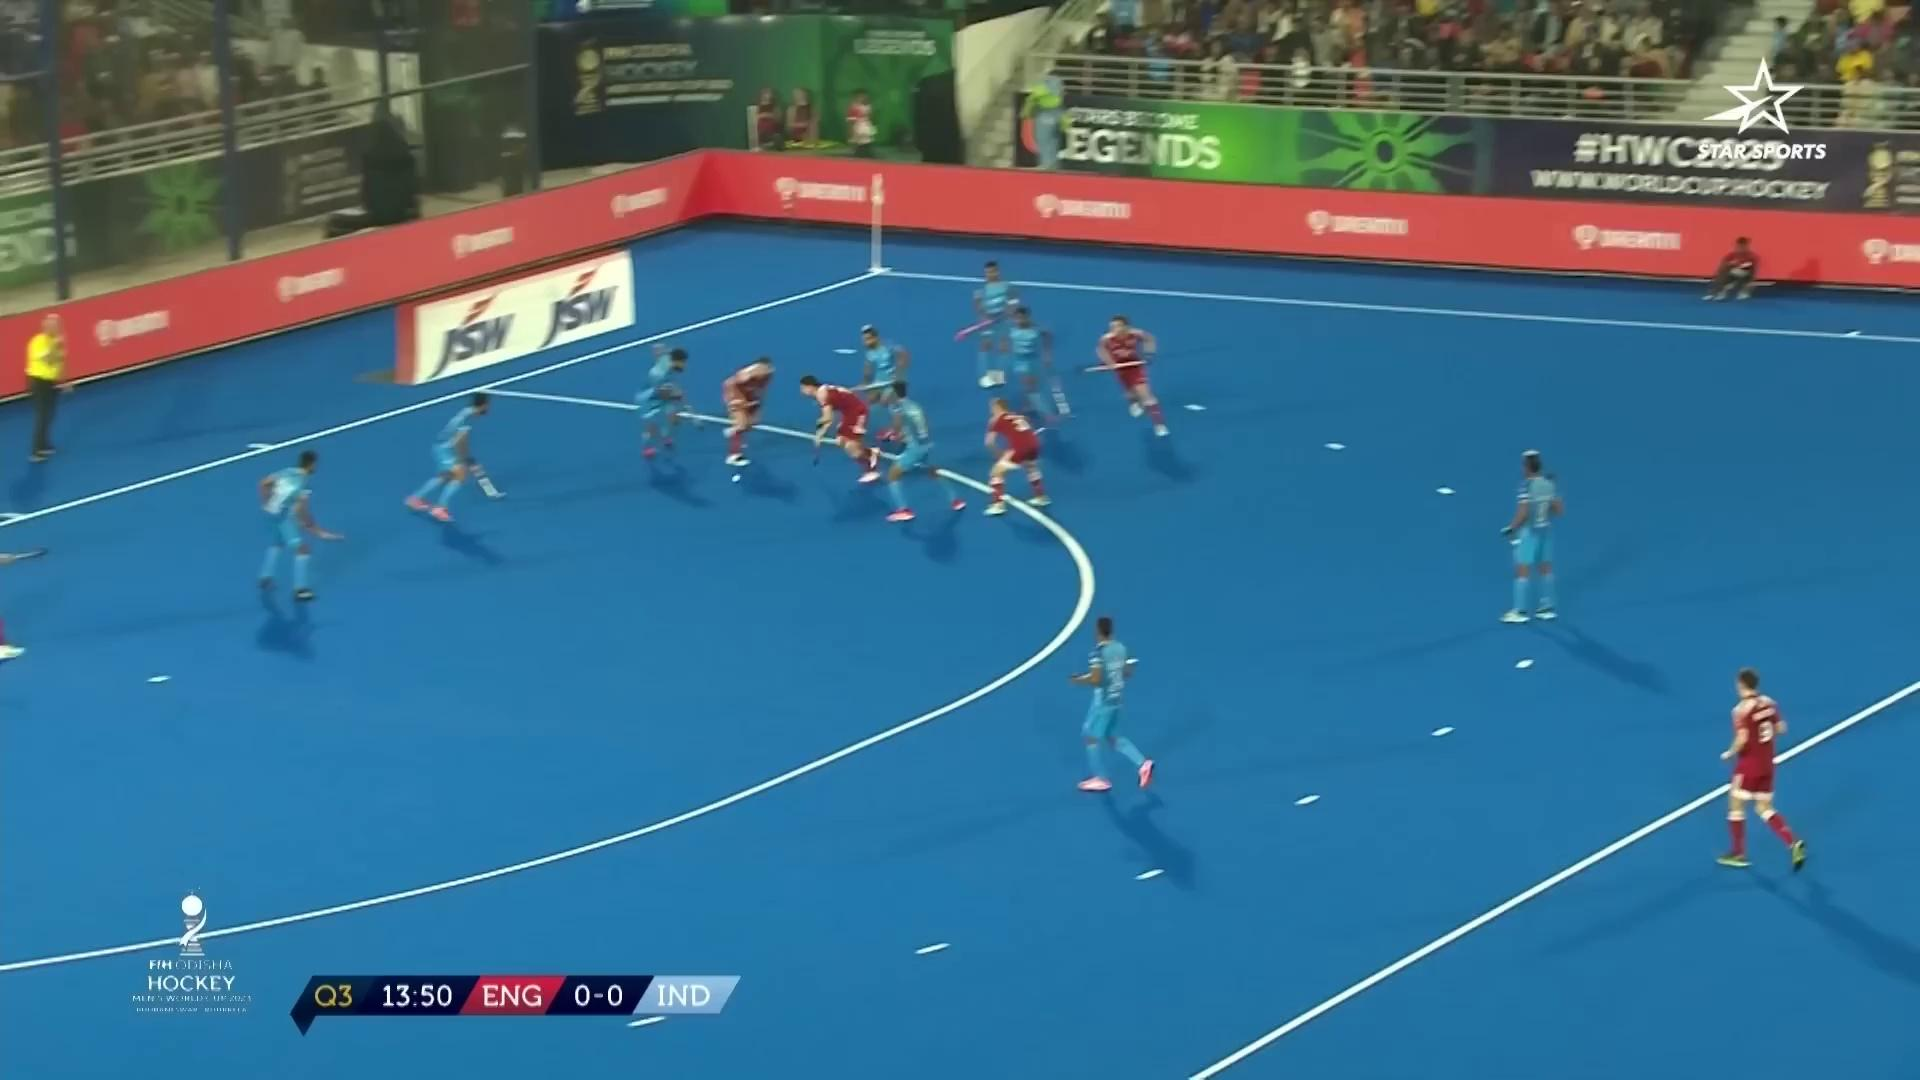ball: (731, 464, 749, 491)
